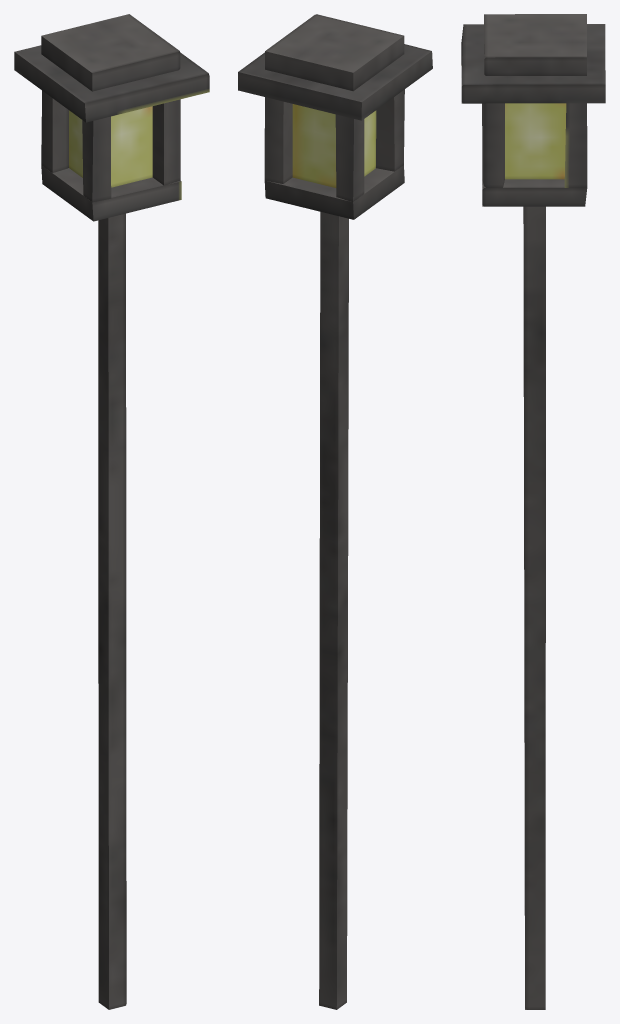
The model's file is lamp.obj.
3 renders of one model, left to right at view 1: azimuth 30°, elevation 25°; view 2: azimuth 150°, elevation 25°; view 3: azimuth 270°, elevation 25°, orthographic.
Visible parts, largest first — view 1: cube, cube.007, cube.006, cube.005, cube.000, cube.003, cube.002, cube.001; view 2: cube, cube.007, cube.006, cube.005, cube.000, cube.001, cube.004, cube.002; view 3: cube, cube.007, cube.006, cube.005, cube.000, cube.003, cube.004.
Part boxes in pixels (x1=…): cube: x1=98, y1=213, x2=126, y2=1009; cube.007: x1=41, y1=14, x2=180, y2=91; cube.006: x1=14, y1=45, x2=209, y2=122; cube.005: x1=69, y1=106, x2=152, y2=187; cube.000: x1=41, y1=165, x2=181, y2=221; cube.003: x1=152, y1=99, x2=180, y2=185; cube.002: x1=82, y1=116, x2=111, y2=202; cube.001: x1=41, y1=90, x2=68, y2=172; cube: x1=319, y1=211, x2=348, y2=1009; cube.007: x1=265, y1=14, x2=404, y2=91; cube.006: x1=238, y1=44, x2=432, y2=120; cube.005: x1=292, y1=104, x2=376, y2=187; cube.000: x1=264, y1=165, x2=404, y2=219; cube.001: x1=335, y1=114, x2=364, y2=201; cube.004: x1=264, y1=97, x2=292, y2=183; cube.002: x1=376, y1=89, x2=404, y2=171; cube: x1=523, y1=206, x2=545, y2=1009; cube.007: x1=484, y1=14, x2=586, y2=75; cube.006: x1=461, y1=24, x2=605, y2=103; cube.005: x1=505, y1=103, x2=566, y2=179; cube.000: x1=482, y1=179, x2=587, y2=206; cube.003: x1=482, y1=103, x2=504, y2=187; cube.004: x1=564, y1=103, x2=587, y2=187.
Bounding box in the file's own units: 3.53 × 26.15 × 3.53.
1 material, 1 textured.
